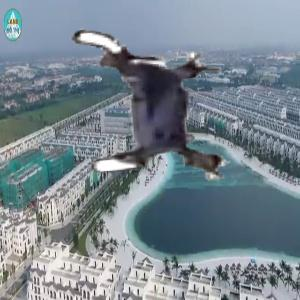drone: (60, 16, 242, 198)
